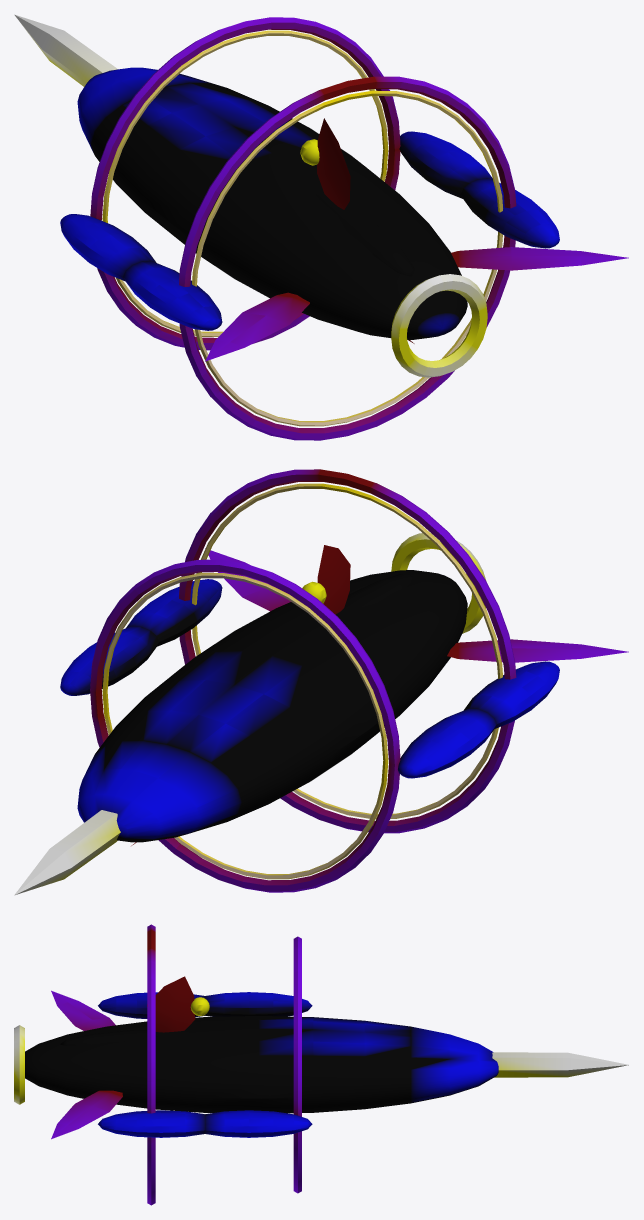
File: inhumanus_executive_flagship.fbx
The picture shows the model from 3 angles, top to bottom: view 1: azimuth 30°, elevation 25°; view 2: azimuth 150°, elevation 25°; view 3: azimuth 270°, elevation 25°; orthographic projection. The views are drawn at different scales.
Parts seen in each view (by area): view 1: inhumanus_executive_flagship; view 2: inhumanus_executive_flagship; view 3: inhumanus_executive_flagship.
Boxes of the visible parts, left/top/right/bottom form: inhumanus_executive_flagship: left=14, top=14, right=628, bottom=440; inhumanus_executive_flagship: left=14, top=469, right=628, bottom=895; inhumanus_executive_flagship: left=14, top=924, right=628, bottom=1205.
Bounding box in the file's own units: 1.59 × 1.27 × 2.77.
